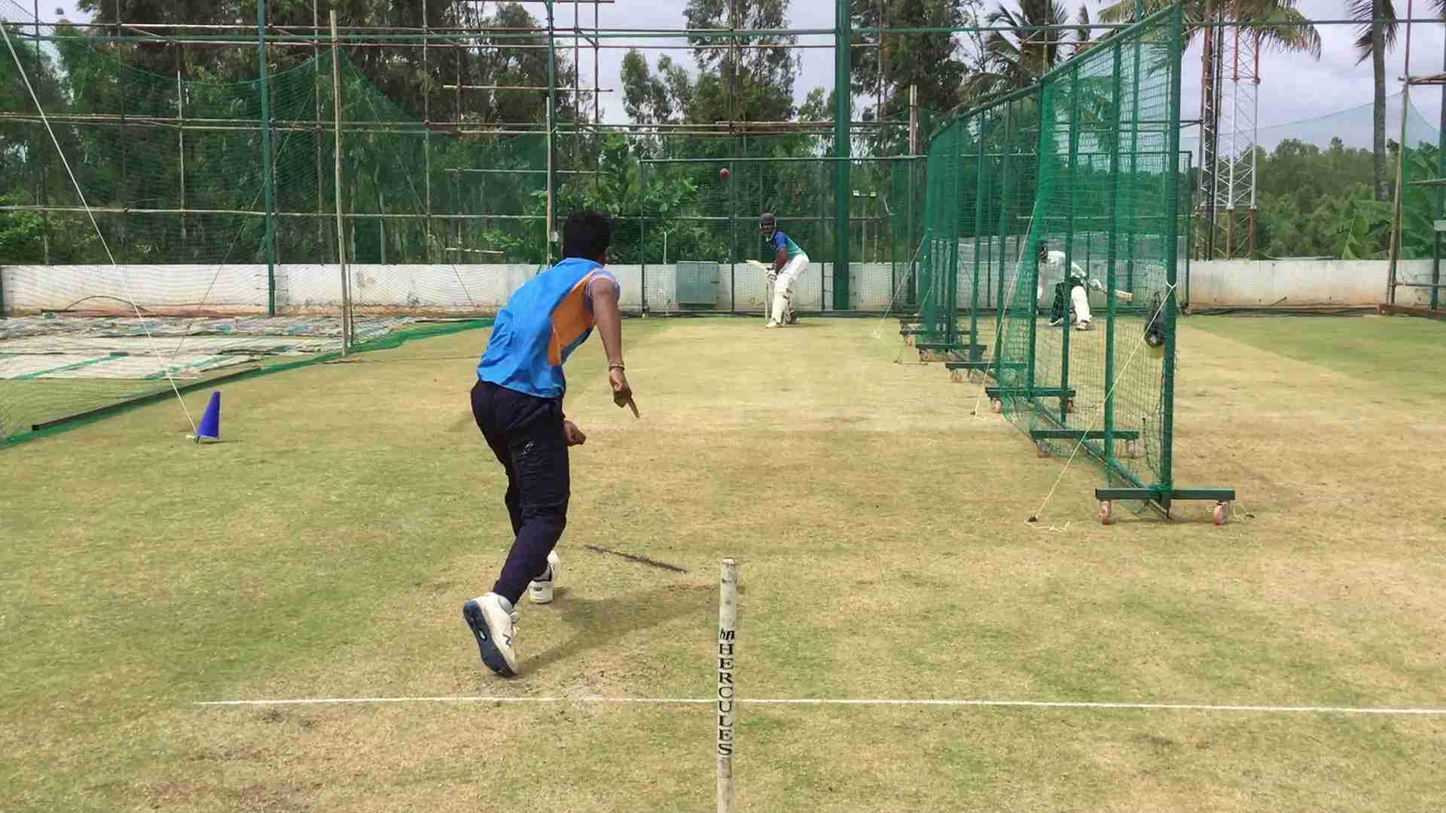batsman: (754, 208, 813, 330)
